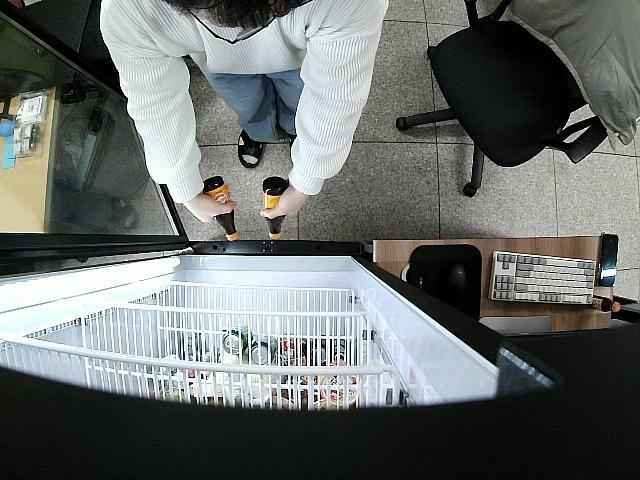17_vita500: (202, 176, 242, 244), (262, 178, 288, 242)
